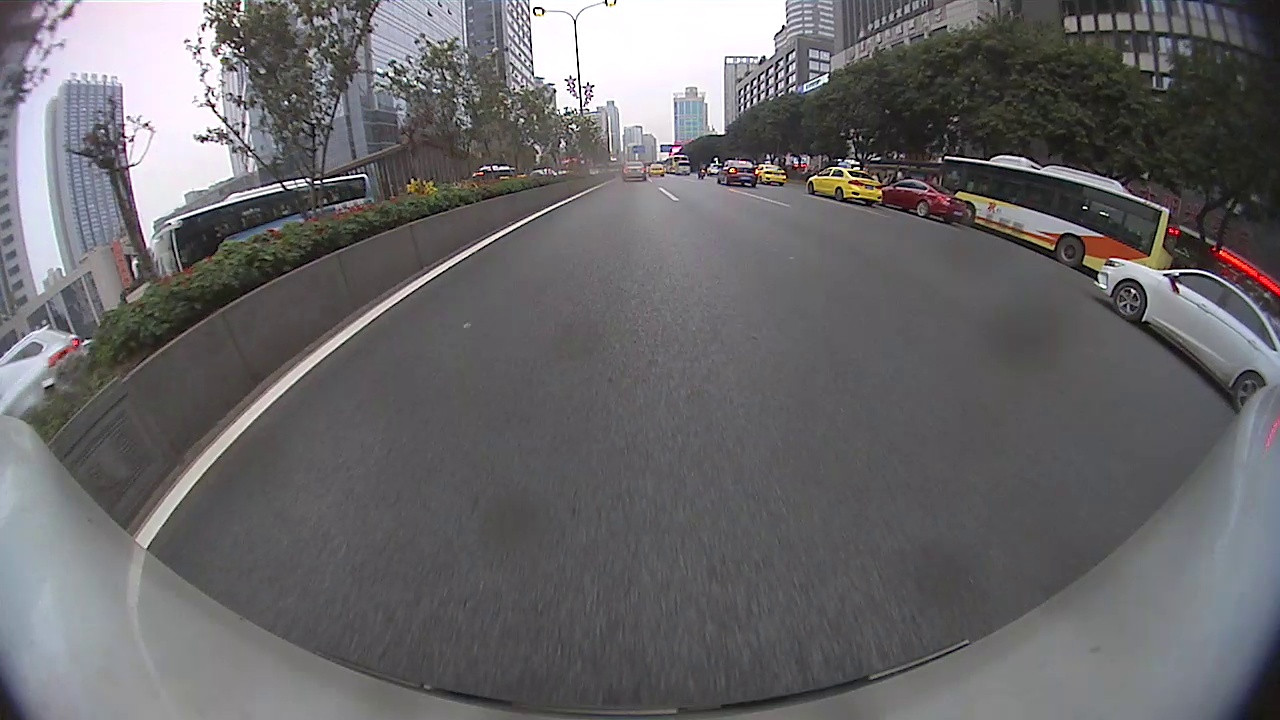bus: (935, 156, 1180, 278), (151, 173, 373, 285)
car: (1093, 256, 1278, 408), (1, 344, 87, 416), (880, 176, 969, 226), (1, 324, 86, 366), (805, 160, 884, 205), (719, 157, 761, 189), (757, 162, 789, 185), (621, 162, 645, 181)
front: (1113, 280, 1144, 321)
rear: (1232, 372, 1266, 416), (1056, 235, 1087, 270), (915, 199, 933, 220)
